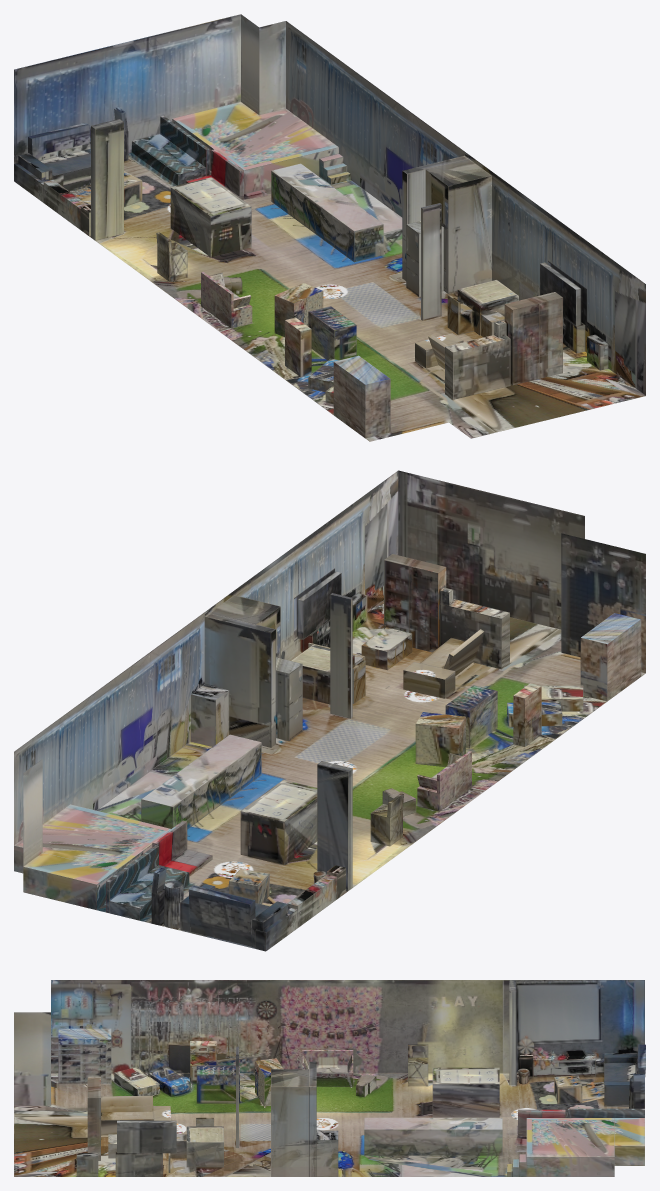
File: asset.glb
3 views of the same model, one above another, from view 1: azimuth 30°, elevation 25°; view 2: azimuth 150°, elevation 25°; view 3: azimuth 270°, elevation 25° (orthographic). The views are drawn at different scales.
Parts seen in each view (by area): view 1: default_afd07a71_6267_4d55_b141_93c0b513b2d0; view 2: default_afd07a71_6267_4d55_b141_93c0b513b2d0; view 3: default_afd07a71_6267_4d55_b141_93c0b513b2d0.
Part boxes in pixels (x1,y1,x2,y2): default_afd07a71_6267_4d55_b141_93c0b513b2d0: (14, 14, 645, 441); default_afd07a71_6267_4d55_b141_93c0b513b2d0: (14, 470, 645, 951); default_afd07a71_6267_4d55_b141_93c0b513b2d0: (14, 980, 645, 1176).
Size of the model in its own units: 7.36 by 3.13 by 18.99.
1 material, 1 textured.
